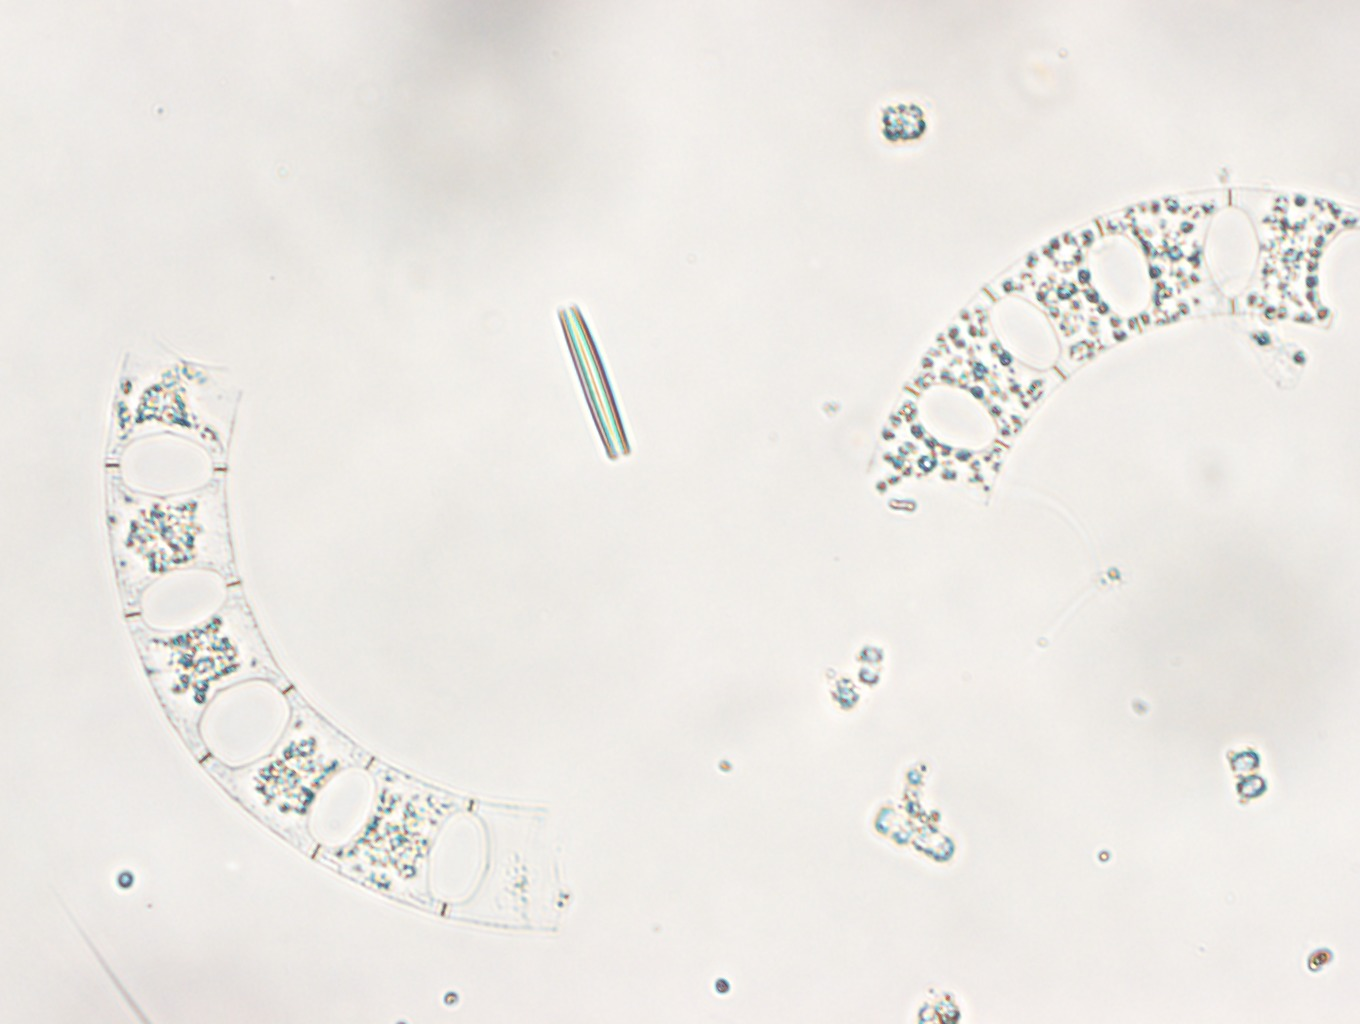eucampia: (102, 328, 579, 931), (868, 183, 1360, 502)
